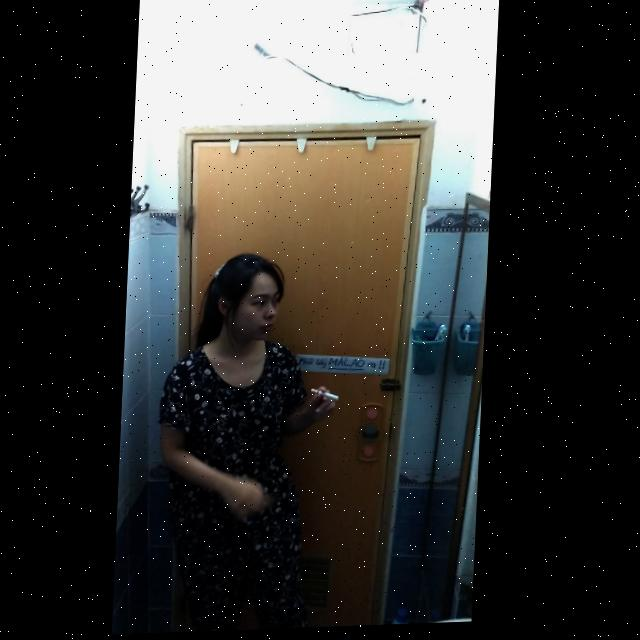cigarette: (315, 390, 343, 404)
